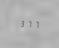seven: (26, 19, 32, 28), (33, 20, 39, 28)
three: (18, 19, 24, 27)
